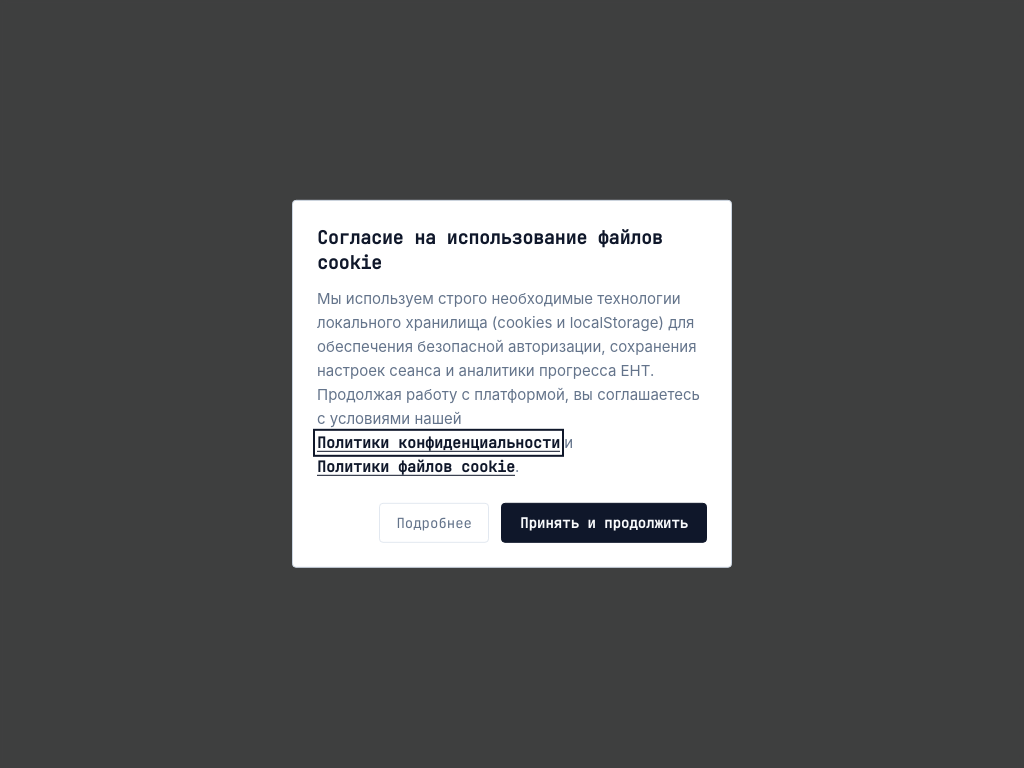
Scenario: CookieConsentModal › opens policy modal when clicking policy links
What coordinates should you click on to do the following:
click the button "Политики конфиденциальности"
I would click on:
 (438, 443)
Its box is [317,433,560,453].
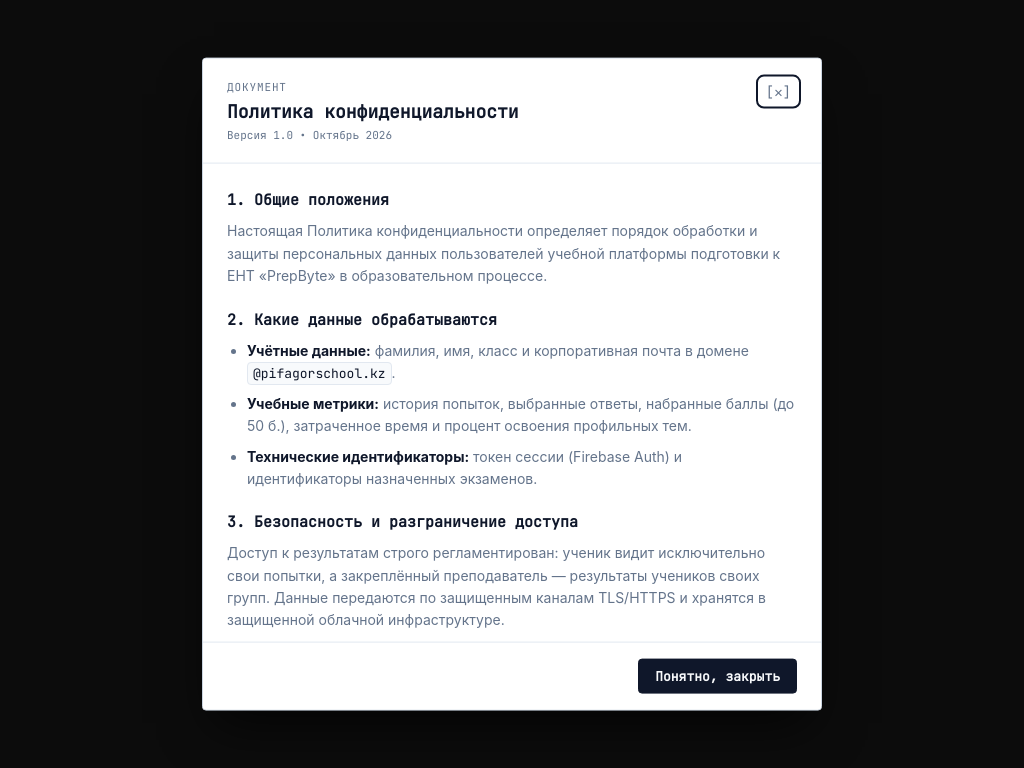
Check: the heading "Политика конфиденциальности" is shown, box [227,99,519,122]
